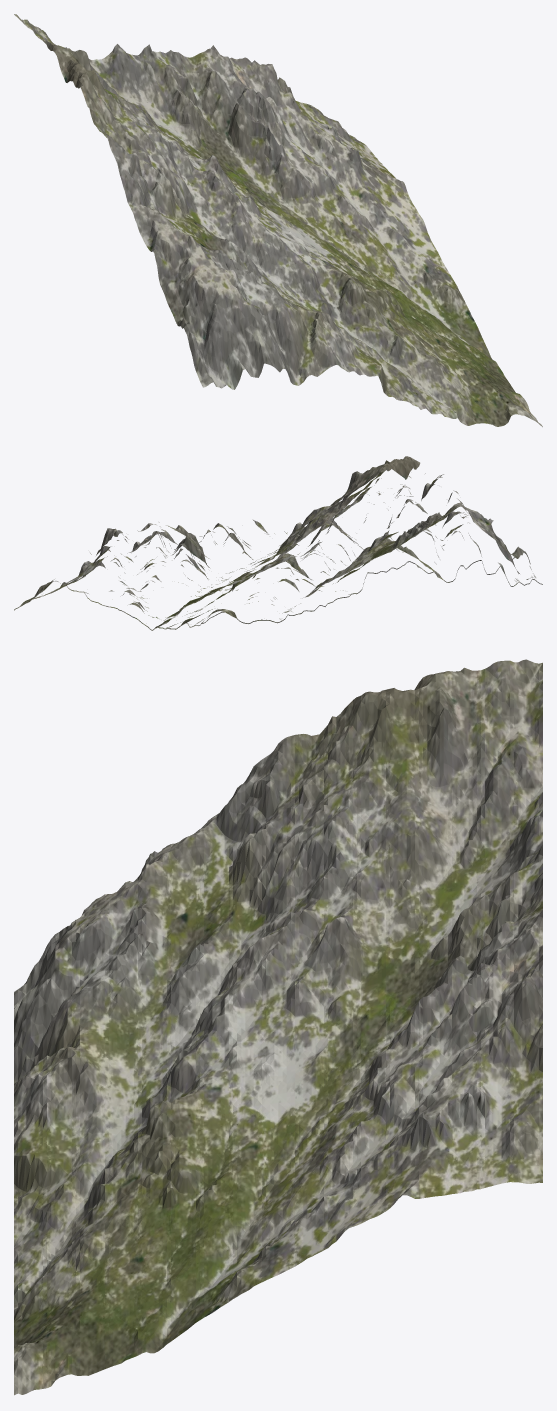
3 renders of one model, top to bottom at view 1: azimuth 30°, elevation 25°; view 2: azimuth 150°, elevation 25°; view 3: azimuth 270°, elevation 25°, orthographic. The views are drawn at different scales.
Size of the model in its own units: 500 by 507 by 481.
1 material, 1 textured.
